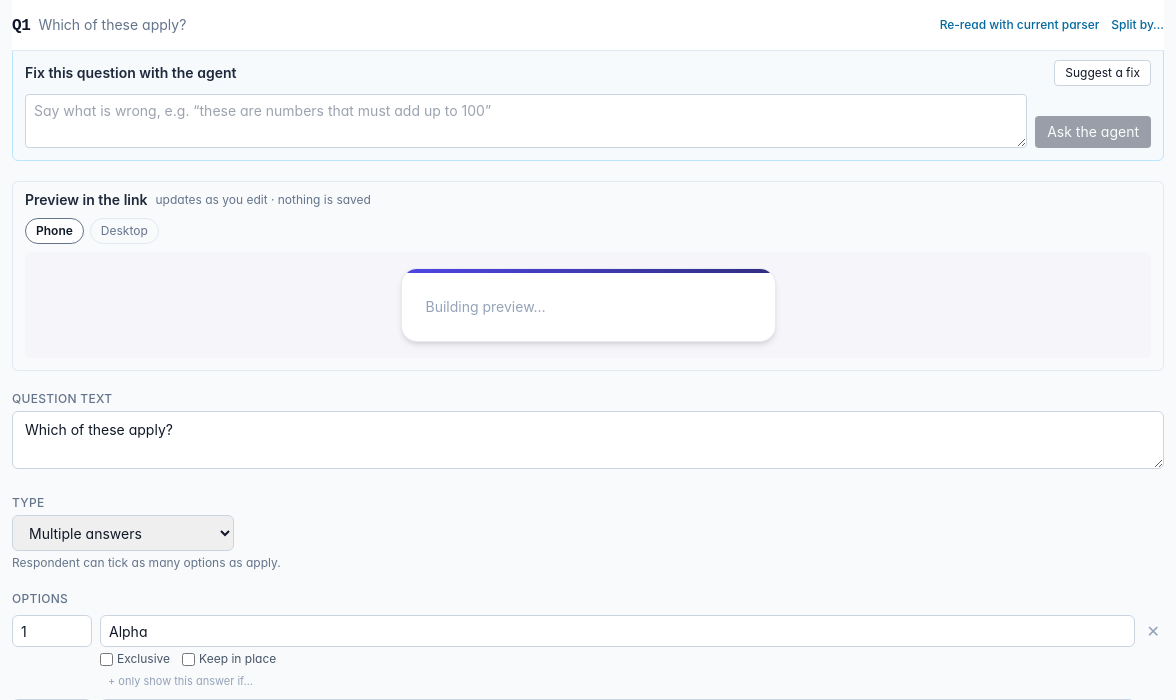
Test: option code box › restores the stored code when you leave without typing a new one
Clear the 1st number field named "option code". click: (52, 631)
box: [12,615,92,647]
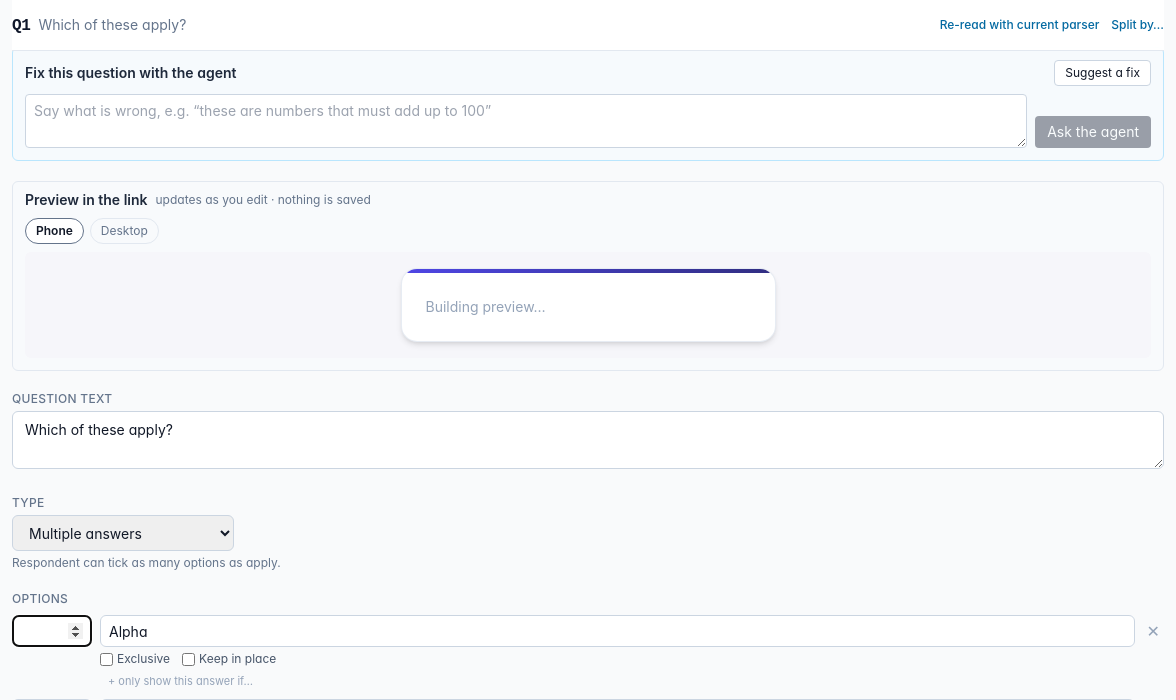
Click the 1st field named "option label". click: (617, 631)
box: [100,615,1135,647]
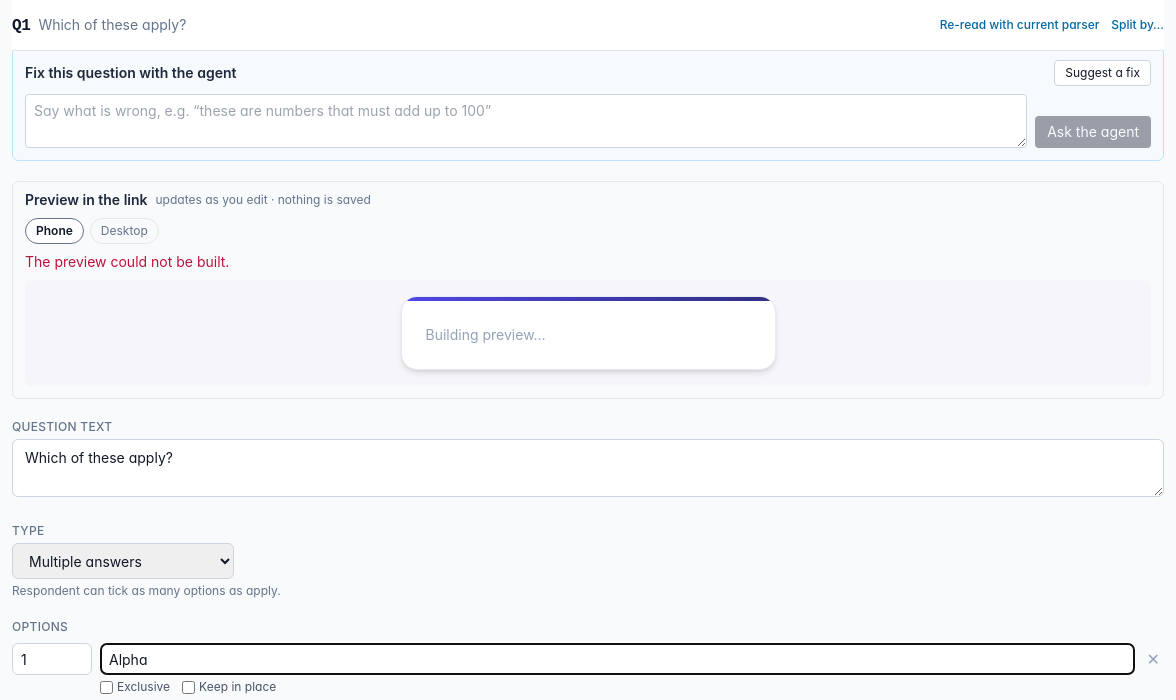
Result: the number field named "option code" holds "1" at [12,643,92,675]
